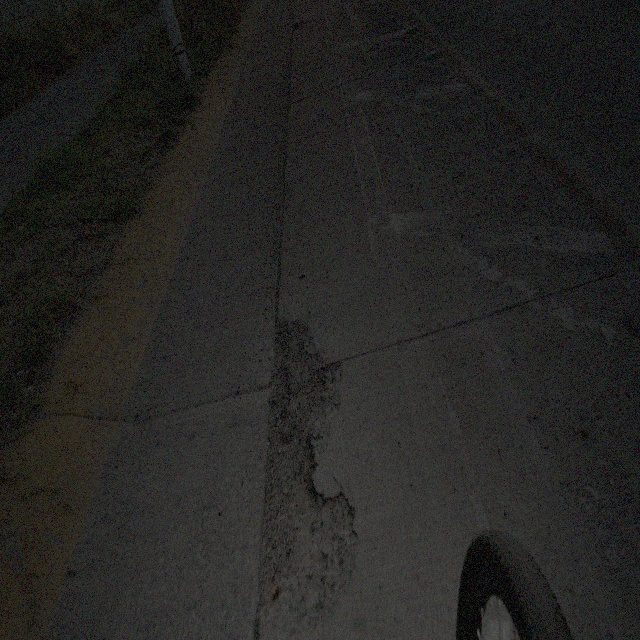pothole: (254, 302, 364, 614)
